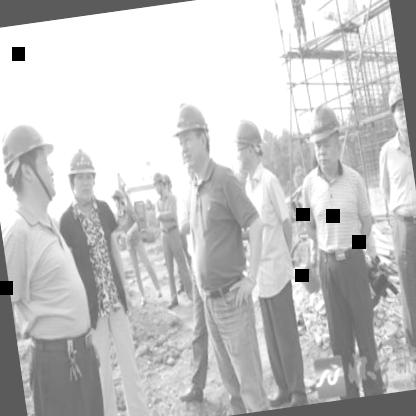helmet: (0, 115, 62, 214), (166, 94, 218, 175), (302, 96, 350, 176), (60, 141, 102, 208), (226, 112, 266, 174), (382, 77, 408, 141), (146, 169, 168, 200), (110, 185, 126, 212), (160, 172, 174, 196)
